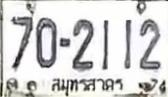0: (35, 16, 57, 68)
1: (123, 19, 132, 69), (102, 20, 108, 69)
2: (72, 18, 94, 70), (138, 18, 160, 70)
7: (9, 15, 32, 69)
SKN: (47, 75, 126, 97)
